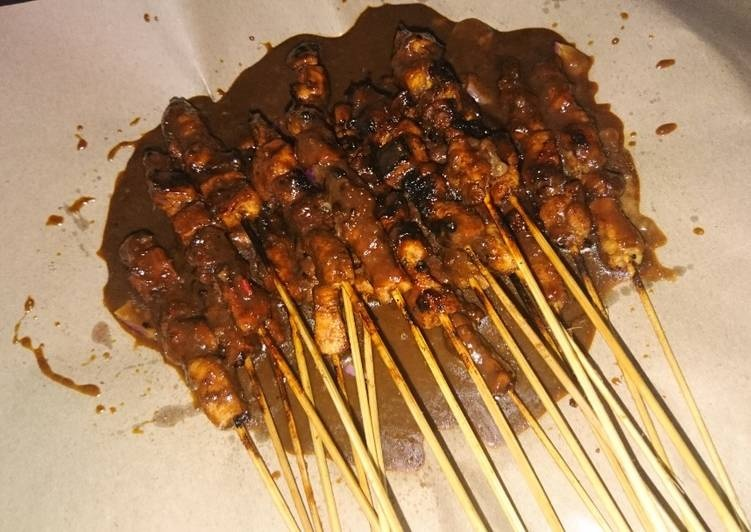sate: (113, 20, 645, 447)
